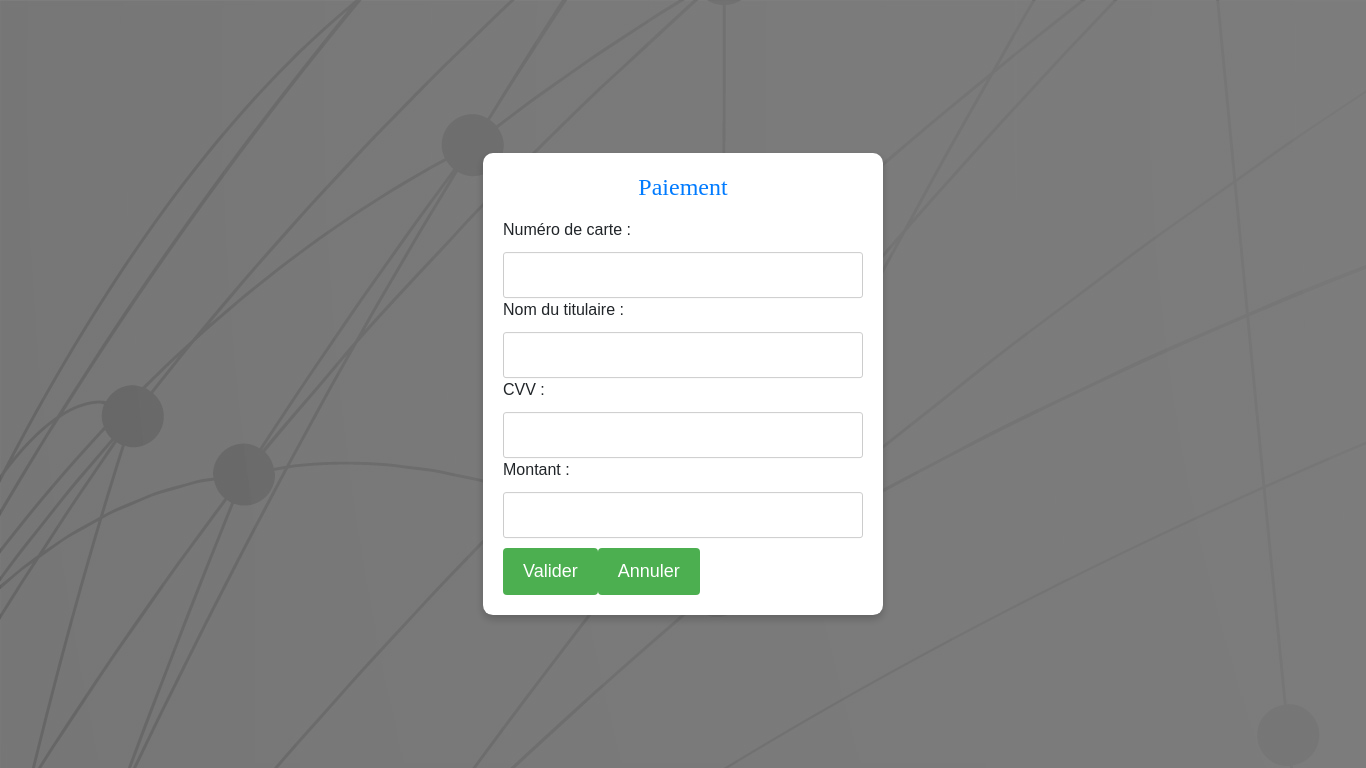
it: PaymentForm Validation › clears cardNumberError when card number becomes valid
# Ouvrir la popup
Step 1. Click the button "Valider" → (550, 571), box x1=503 y1=548 x2=598 y2=595
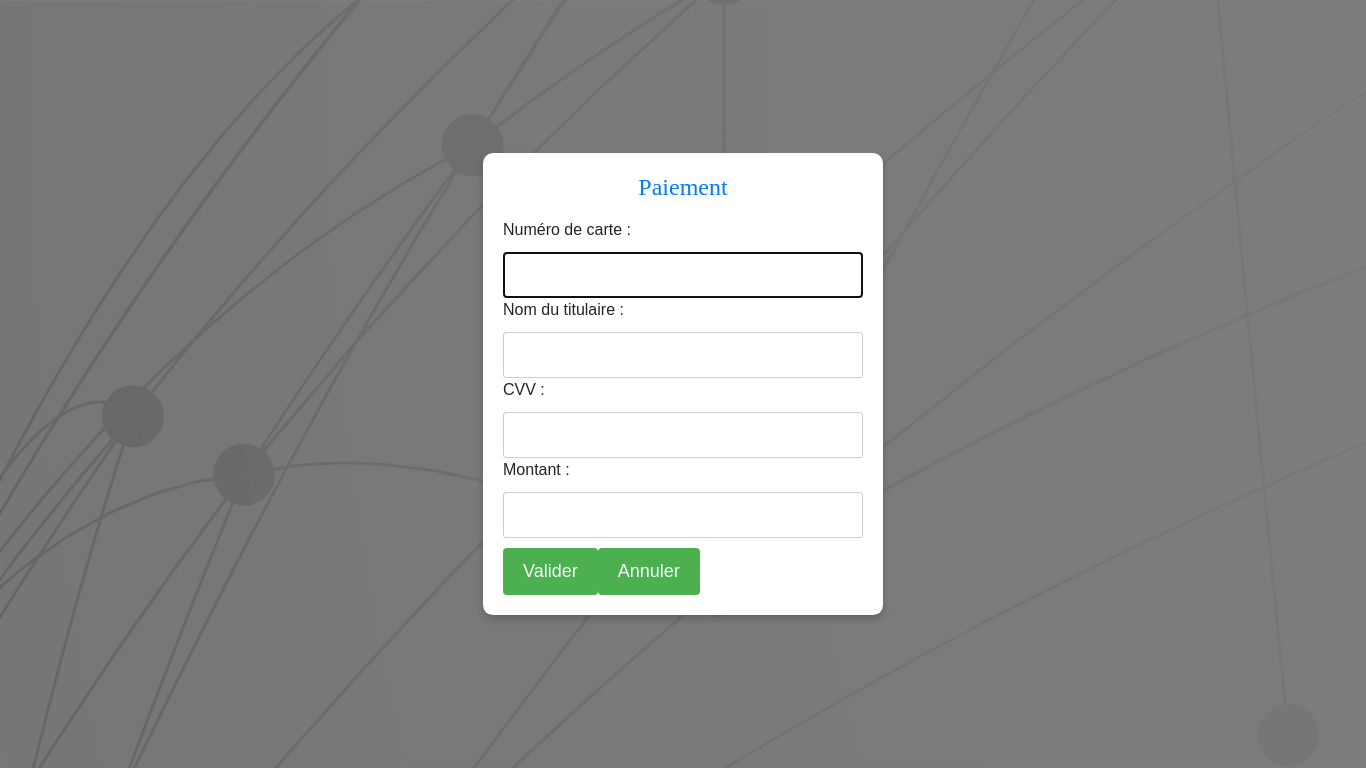
Step 2. Type "4111111111111112" into the field labelled "Numéro de carte :" → (683, 275), box x1=503 y1=252 x2=863 y2=298
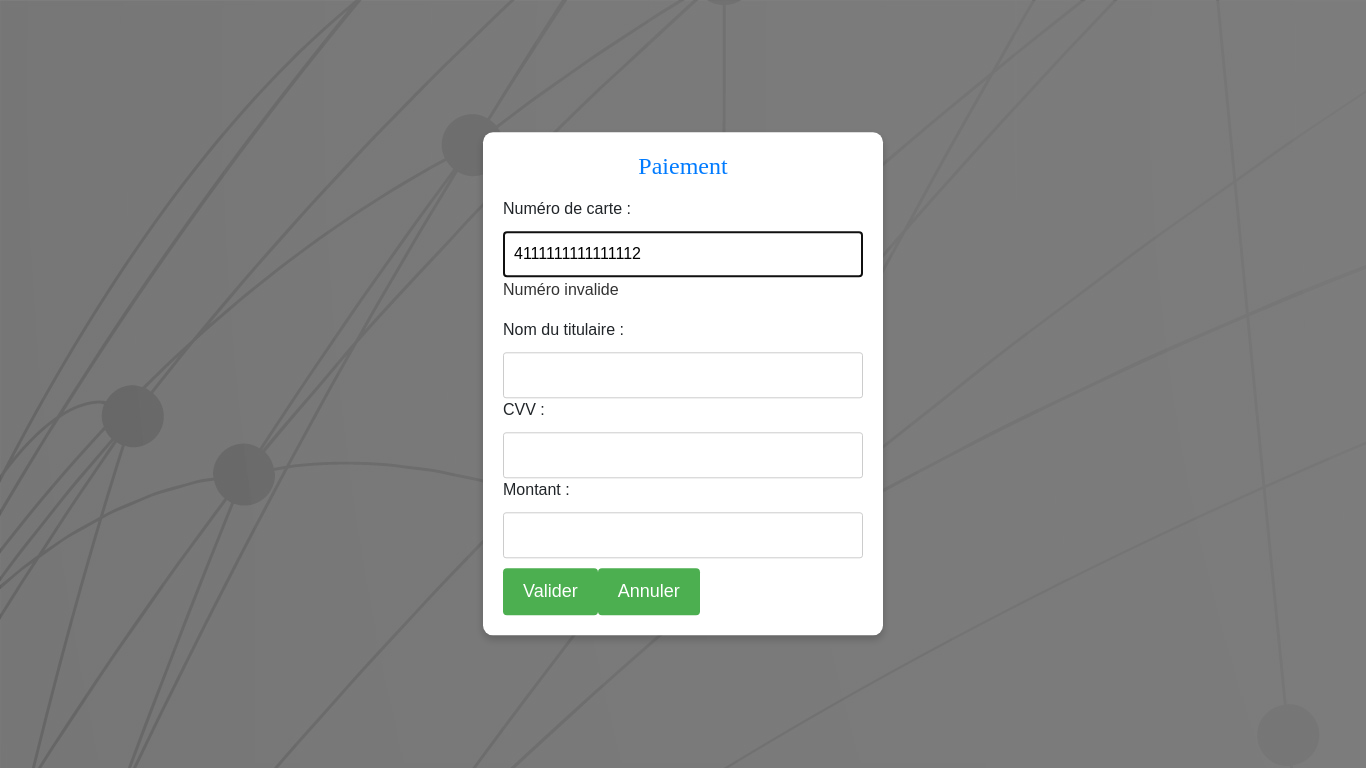
Step 3. Replace the text in the field labelled "Numéro de carte :" with "4111111111111111" → (683, 254), box x1=503 y1=231 x2=863 y2=277
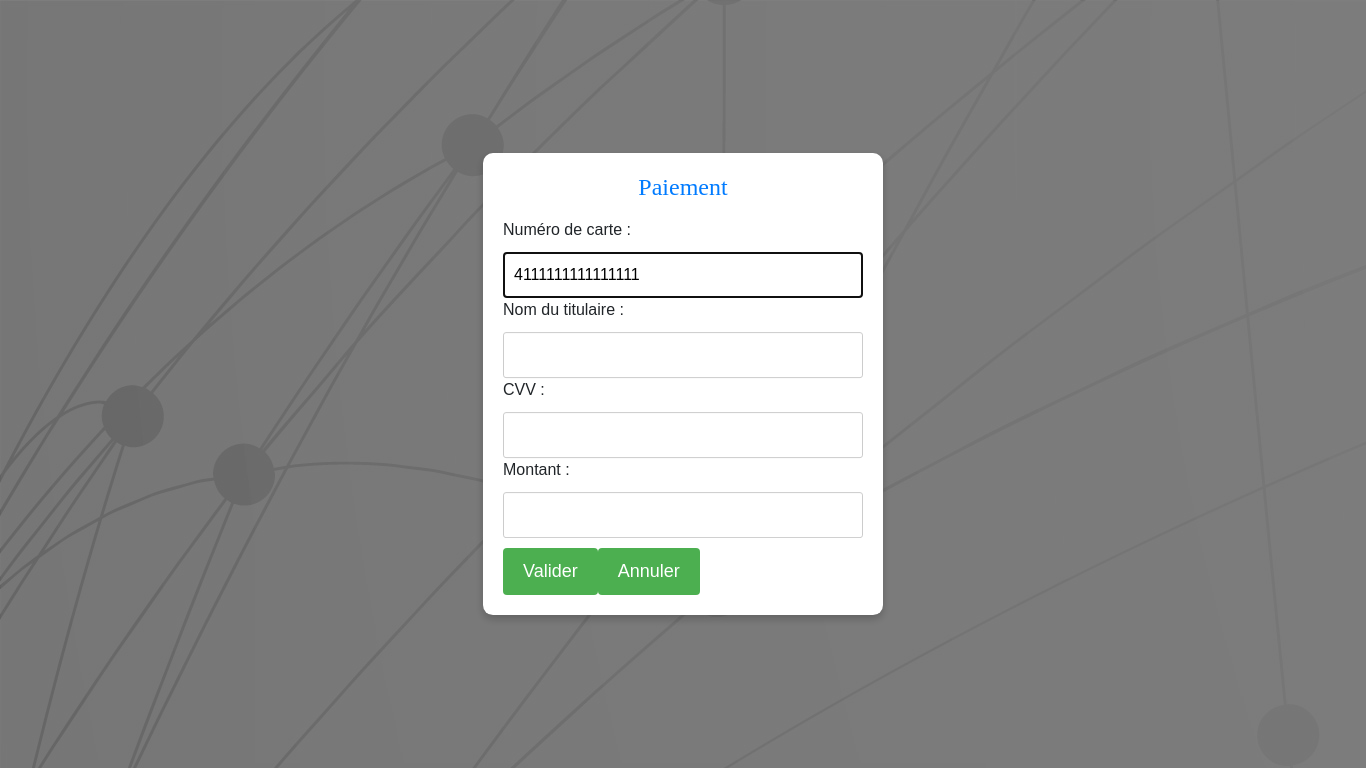
Check: the text "Numéro invalide" is gone
